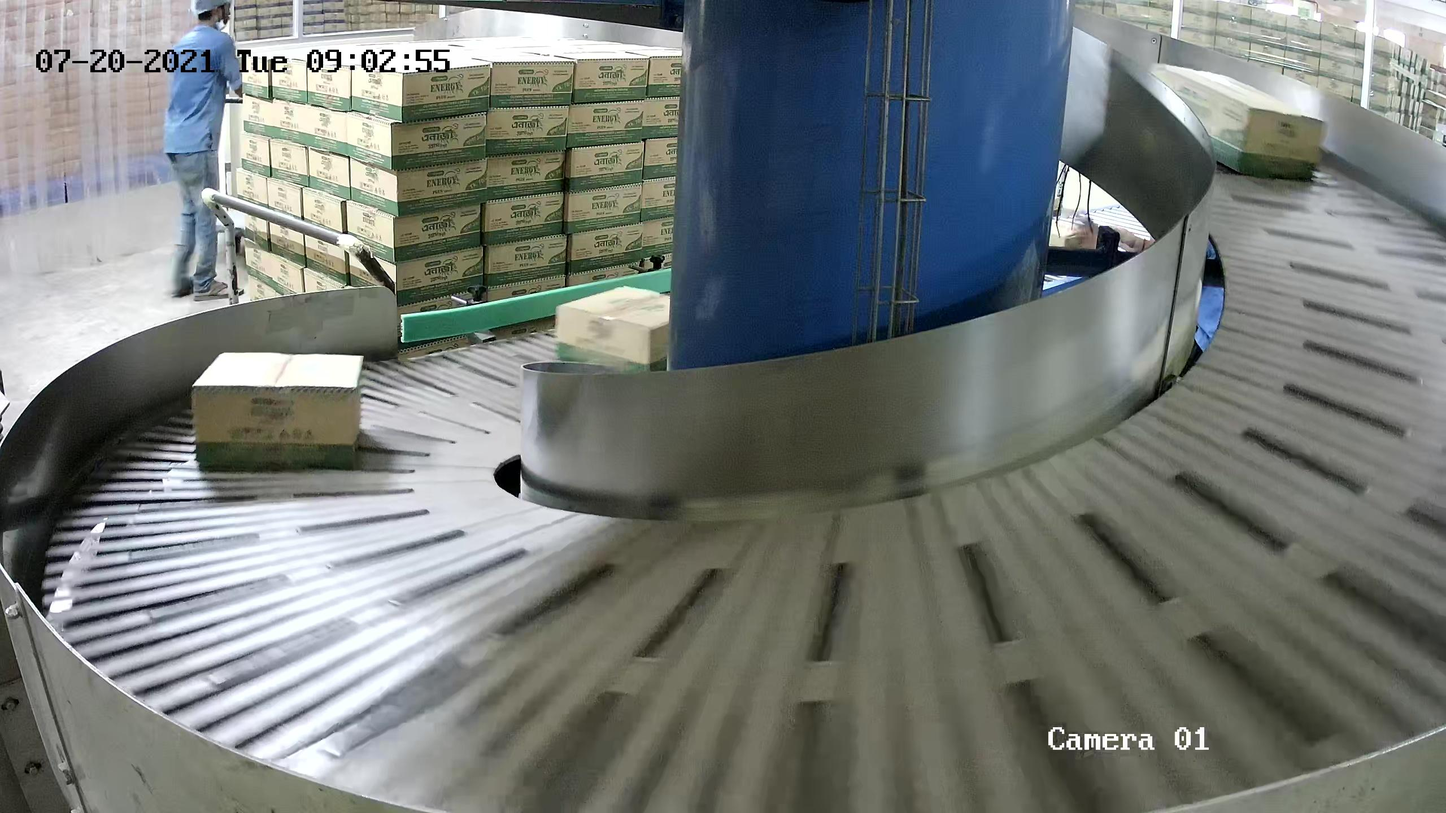Box: (1141, 60, 1330, 186), (191, 352, 366, 473), (556, 284, 694, 389)
